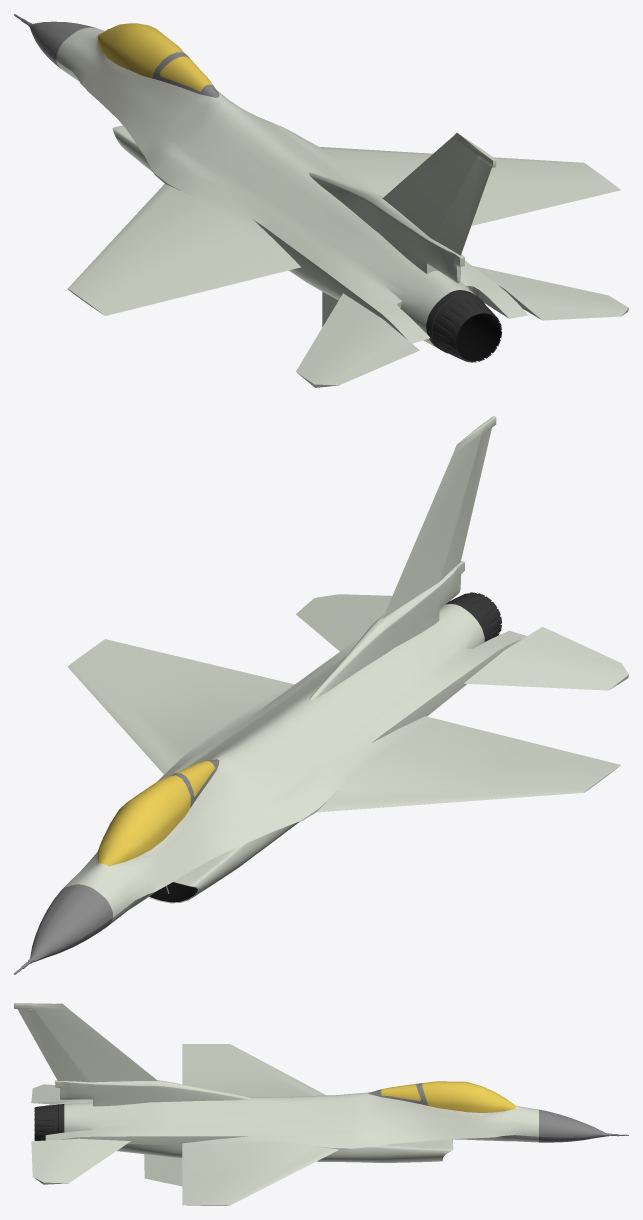
File: F-16 retoplology.fbx
3 views of the same model, one above another, from view 1: azimuth 30°, elevation 25°; view 2: azimuth 150°, elevation 25°; view 3: azimuth 270°, elevation 25° (orthographic). The views are drawn at different scales.
Parts seen in each view (by area): view 1: F-16; view 2: F-16; view 3: F-16.
Part boxes in pixels (x1,y1,x2,y2): F-16: [14, 14, 628, 387]; F-16: [14, 416, 628, 974]; F-16: [14, 1003, 628, 1205].
Bounding box in the file's own units: 4700 × 2331 × 7575.
